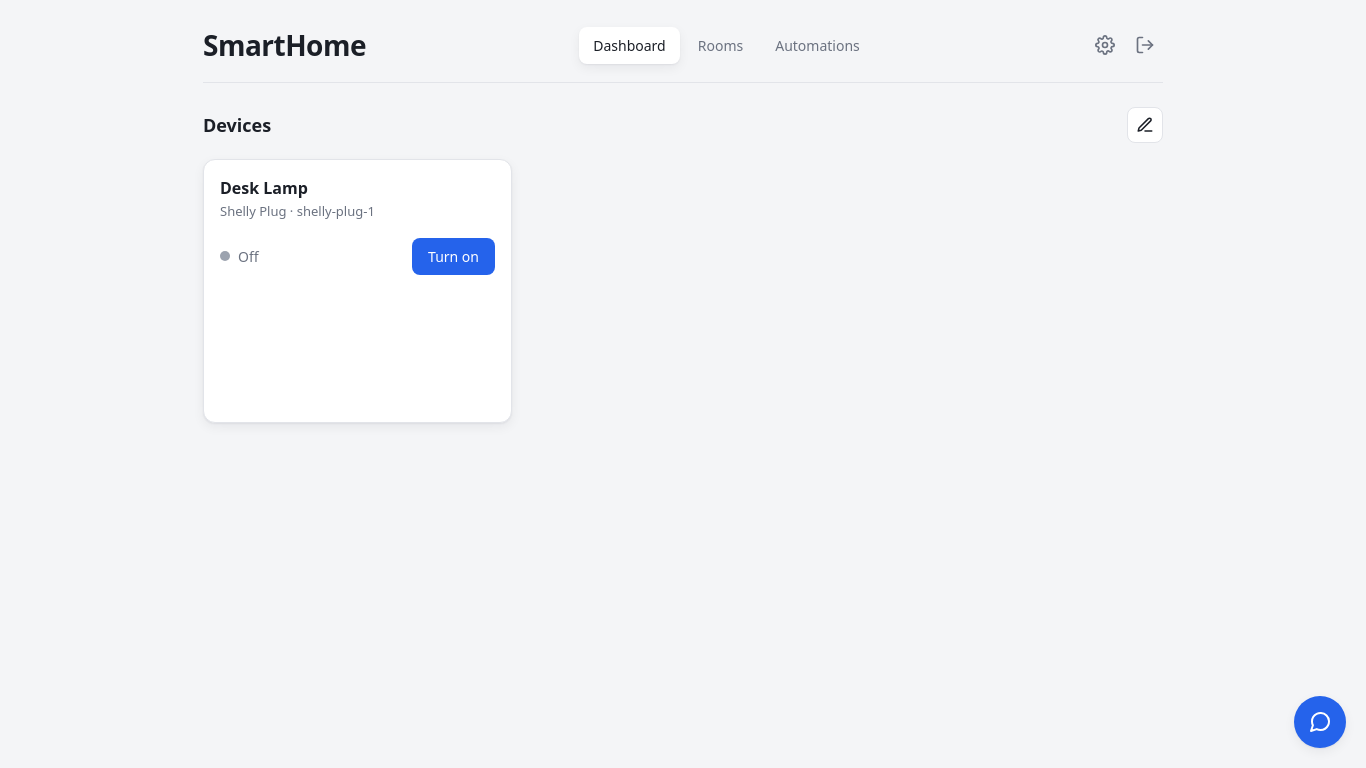
Test: App › toggles a device and renders its new state
The image size is (1366, 768).
Step 1. Click the button with aria-label "Turn Desk Lamp on" → (454, 256), box [412,238,495,274]
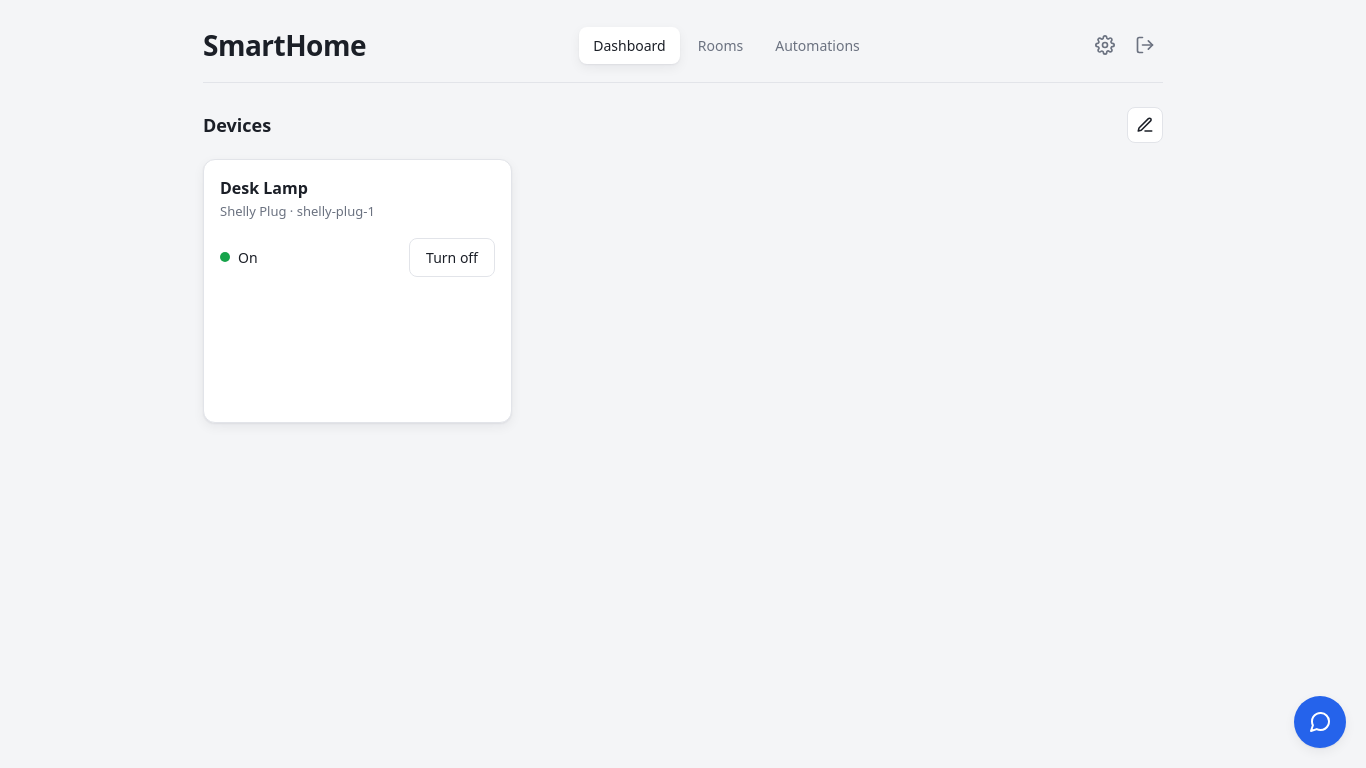
Expected: the button with aria-label "Turn Desk Lamp off" is shown, [409,238,495,276]
